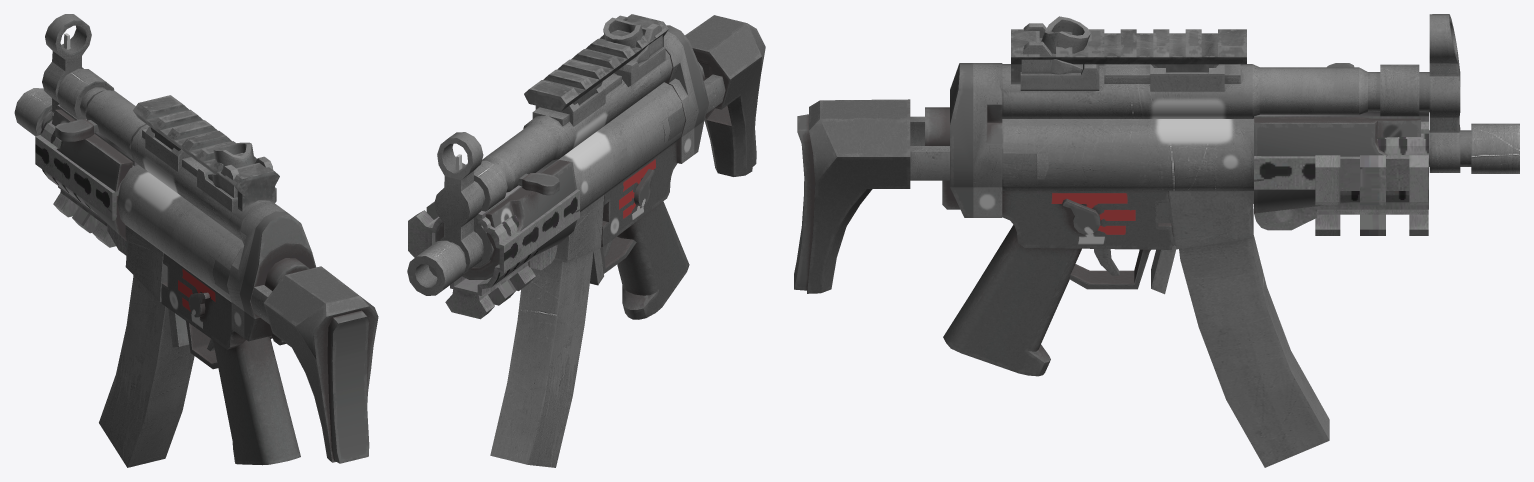
File: IG_Gun_Mp5.fbx
3 views of the same model, side by side, from view 1: azimuth 30°, elevation 25°; view 2: azimuth 150°, elevation 25°; view 3: azimuth 270°, elevation 25° (orthographic). The views are drawn at different scales.
Visible parts, largest first — view 1: WPN_MP5, HideIf_Stock, ShowIf_Scope, ShowIf_Grip, HideIf_Grip, HideIf_Scope, HideIf_Muzzle; view 2: WPN_MP5, HideIf_Stock, ShowIf_Grip, ShowIf_Scope, HideIf_Grip, HideIf_Muzzle, HideIf_Scope, ShowIf_Tec; view 3: WPN_MP5, HideIf_Stock, ShowIf_Grip, ShowIf_Scope, HideIf_Grip, ShowIf_Tec, HideIf_Scope, HideIf_Muzzle.
Boxes of the visible parts, bbox=[...] form: WPN_MP5: bbox=[41, 14, 315, 467]; HideIf_Stock: bbox=[207, 256, 378, 463]; ShowIf_Scope: bbox=[133, 95, 279, 211]; ShowIf_Grip: bbox=[35, 104, 137, 255]; HideIf_Grip: bbox=[52, 109, 133, 240]; HideIf_Scope: bbox=[197, 142, 276, 213]; HideIf_Muzzle: bbox=[14, 88, 51, 136]; WPN_MP5: bbox=[434, 25, 708, 467]; HideIf_Stock: bbox=[662, 15, 765, 176]; ShowIf_Grip: bbox=[427, 159, 579, 319]; ShowIf_Scope: bbox=[524, 14, 668, 111]; HideIf_Grip: bbox=[435, 160, 580, 279]; HideIf_Muzzle: bbox=[407, 240, 466, 295]; HideIf_Scope: bbox=[603, 15, 665, 86]; ShowIf_Tec: bbox=[408, 201, 439, 257]; WPN_MP5: bbox=[943, 14, 1471, 467]; HideIf_Stock: bbox=[794, 99, 1048, 293]; ShowIf_Grip: bbox=[1254, 112, 1428, 235]; ShowIf_Scope: bbox=[1011, 29, 1246, 84]; HideIf_Grip: bbox=[1253, 117, 1420, 213]; ShowIf_Tec: bbox=[1315, 155, 1428, 205]; HideIf_Scope: bbox=[1020, 16, 1099, 90]; HideIf_Muzzle: bbox=[1471, 123, 1519, 173].
Size of the model in its own units: 0.1557 by 0.5153 by 0.7679.
